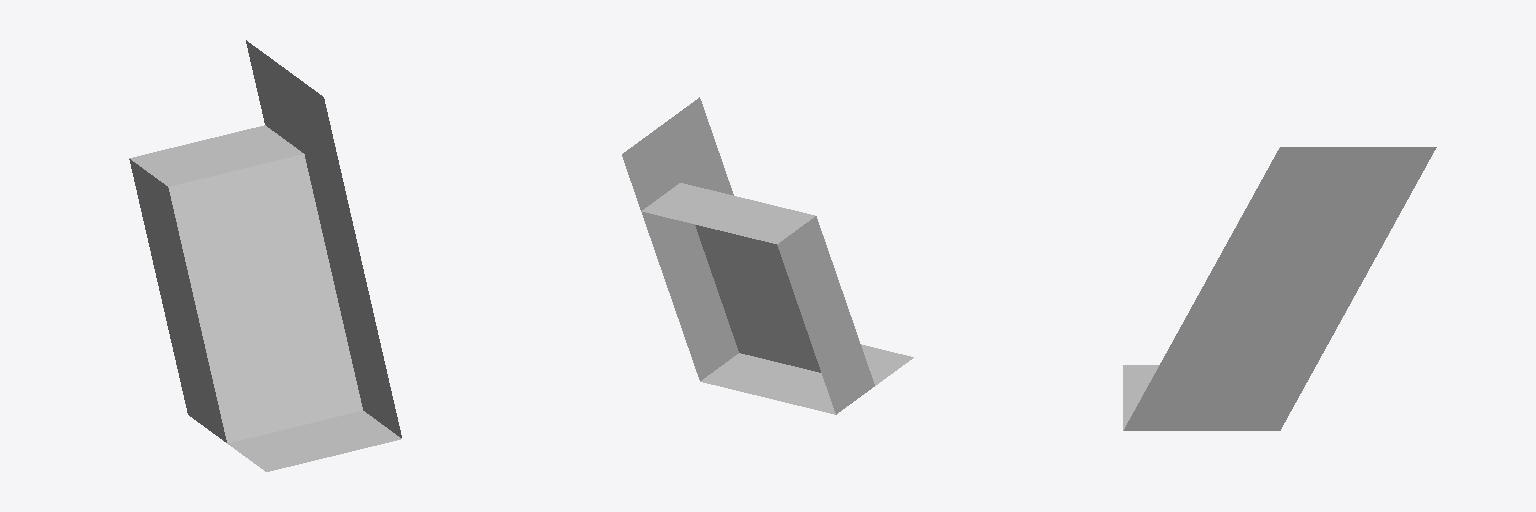
The model's file is tile_lab_bookshelf_4.obj.
3 renders of one model, left to right at view 1: azimuth 30°, elevation 25°; view 2: azimuth 150°, elevation 25°; view 3: azimuth 270°, elevation 25°, orthographic.
Visible parts, largest first — view 1: Default; view 2: Default; view 3: Default.
Boxes of the visible parts, x1=… form: Default: x1=129, y1=40, x2=401, y2=471; Default: x1=622, y1=97, x2=913, y2=414; Default: x1=1123, y1=147, x2=1436, y2=430.
Size of the model in its own units: 1 by 2 by 2.